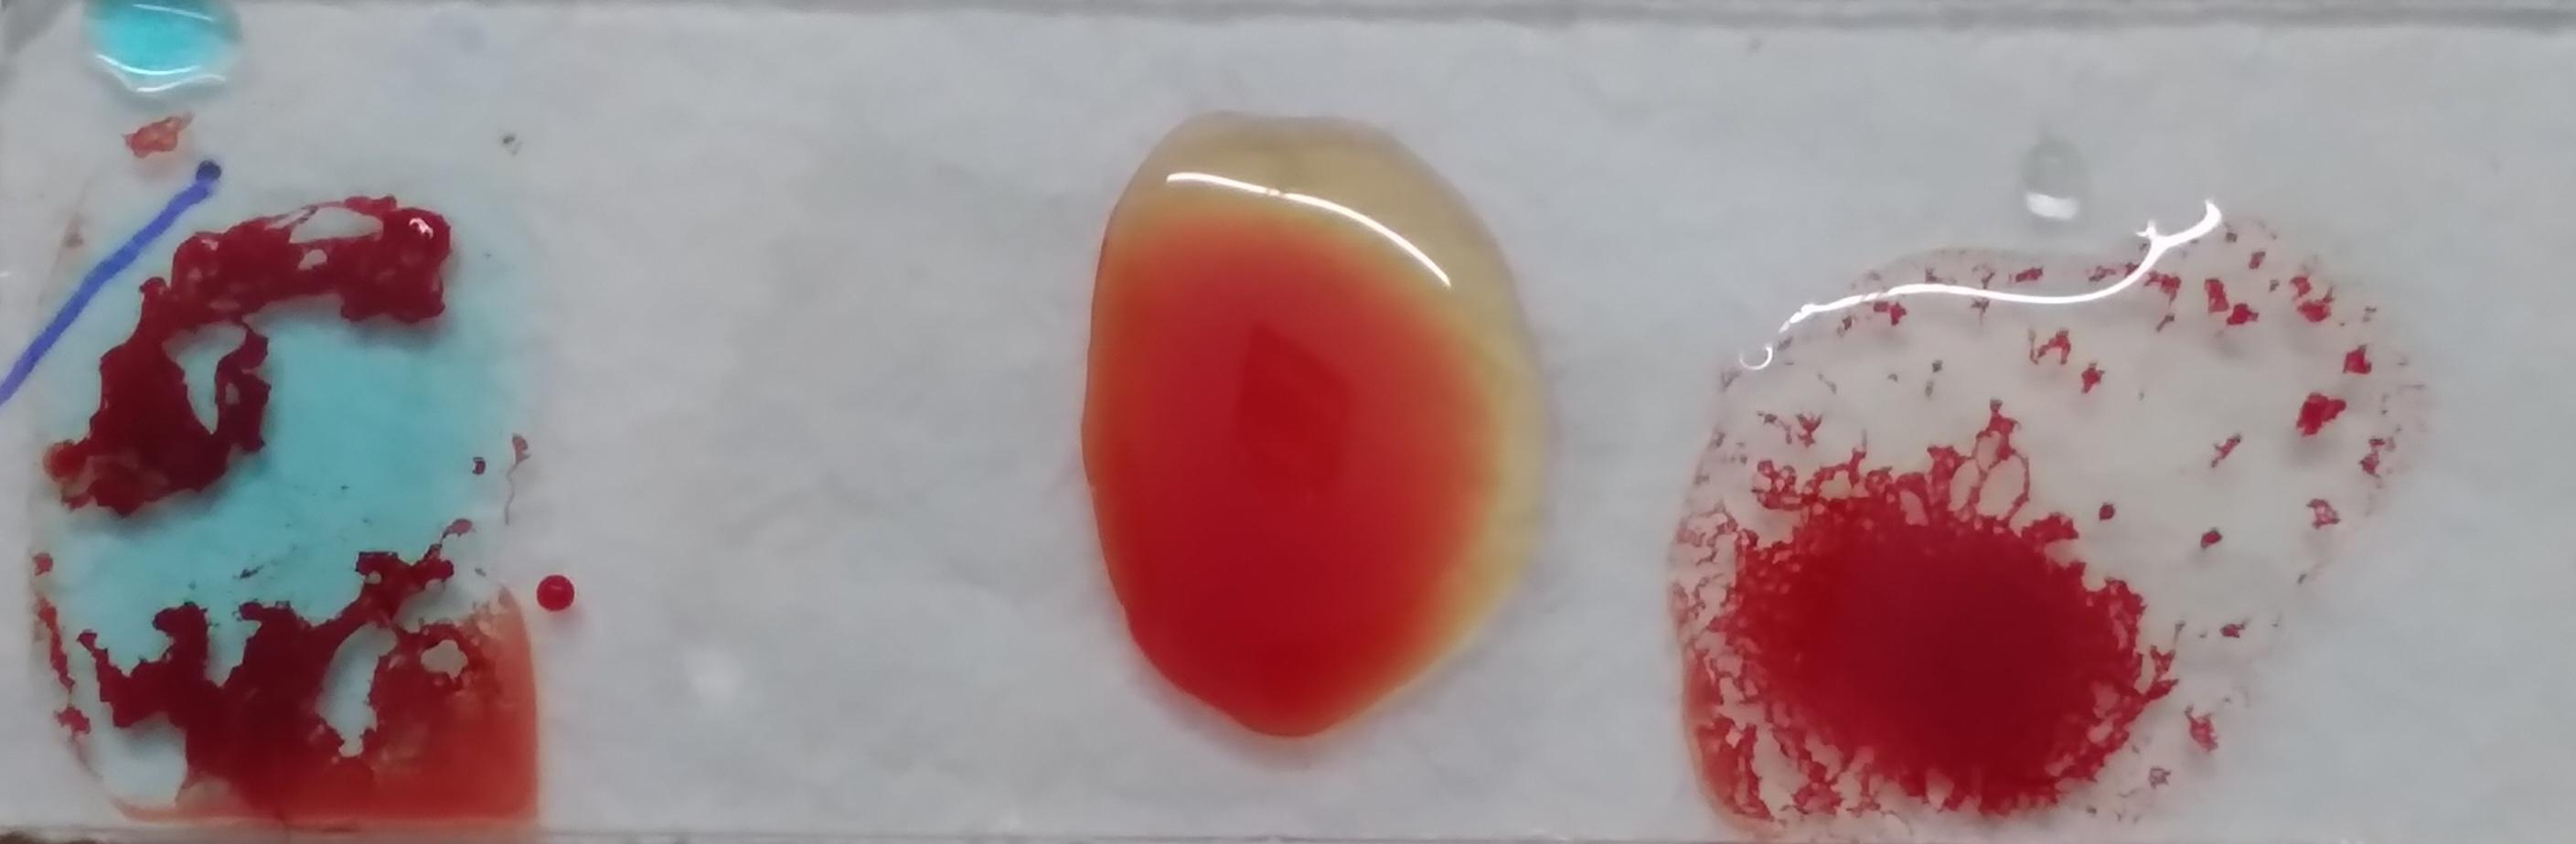A: (2012, 38, 2538, 663)
D: (296, 33, 895, 601)
